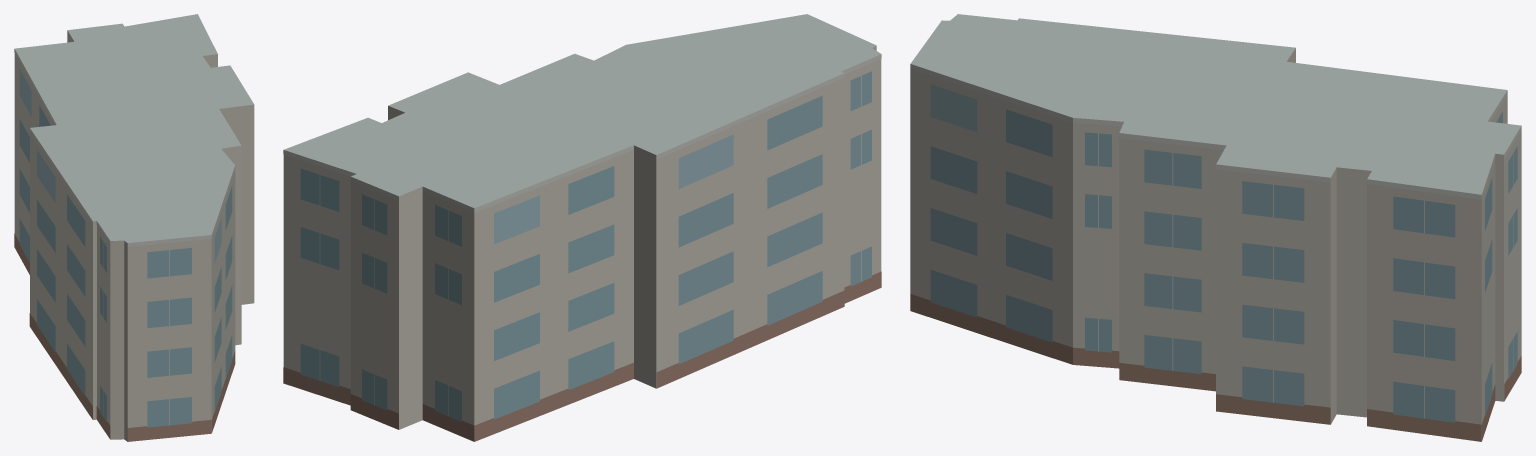
File: survey-upis-32822062.glb
3 renders of one model, left to right at view 1: azimuth 30°, elevation 25°; view 2: azimuth 150°, elevation 25°; view 3: azimuth 270°, elevation 25°, orthographic. The views are drawn at different scales.
Visible parts, largest first — view 1: survey-upis-32822062.tmp; view 2: survey-upis-32822062.tmp; view 3: survey-upis-32822062.tmp.
Part boxes in pixels (x1,y1,x2,y2): survey-upis-32822062.tmp: (14, 14, 254, 441); survey-upis-32822062.tmp: (283, 14, 881, 441); survey-upis-32822062.tmp: (910, 14, 1521, 441).
Bounding box in the file's own units: 19.39 × 12.35 × 27.7.
